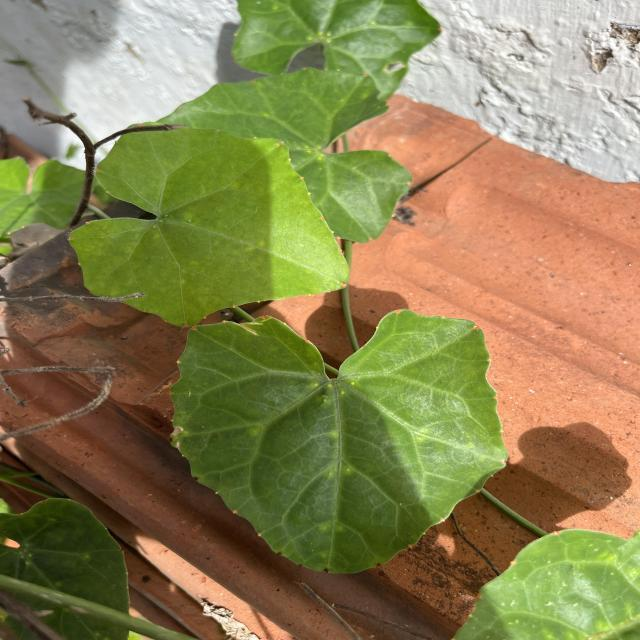Coccinia grandis: (167, 306, 511, 576), (67, 120, 351, 329)
